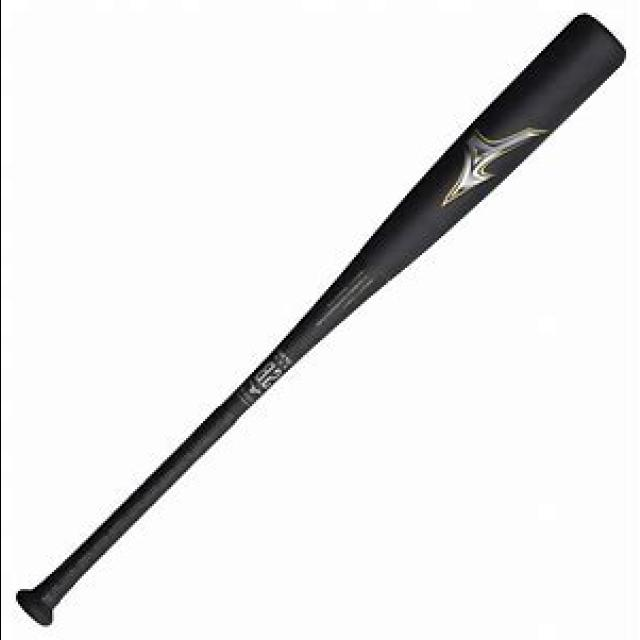bat: (9, 7, 634, 636)
